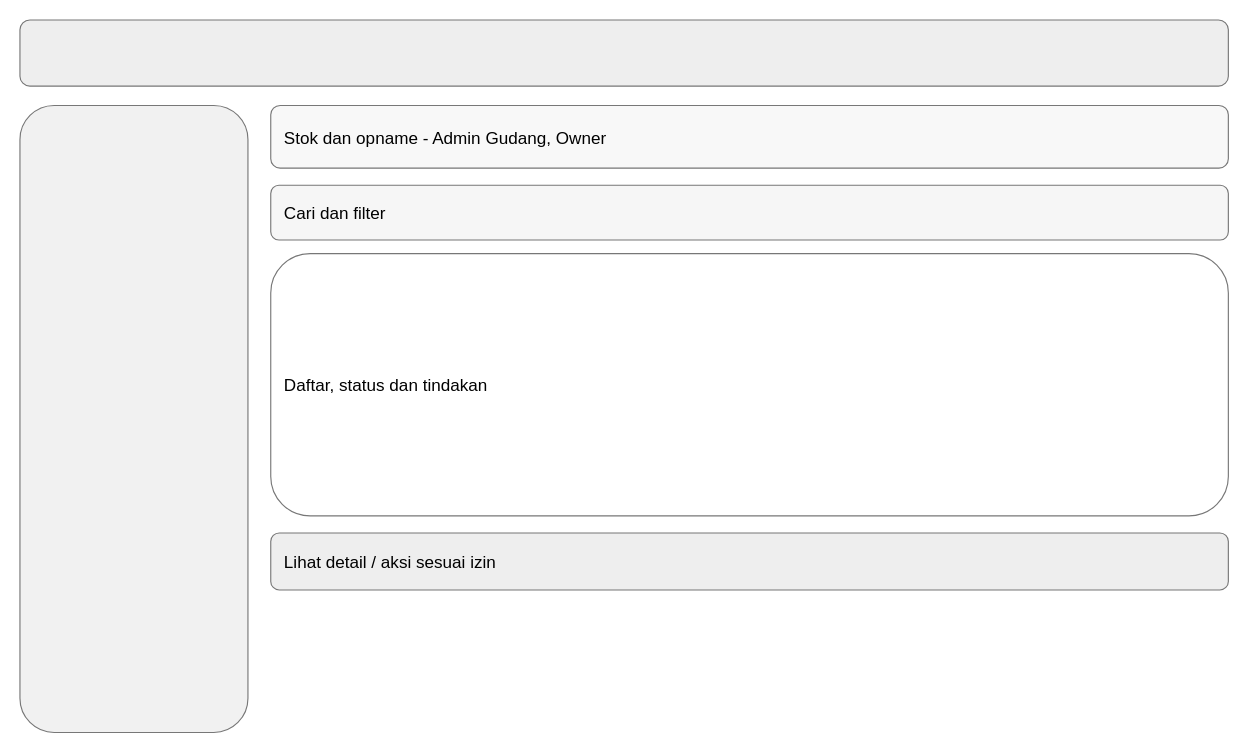
The diagram is 1248 pixels wide and 752 high, and some of its shapes have lost their labels. The shapes that lost their labels are listed below. From the top down, each one's centre as x and y in pixels, then its label:
At (x=623, y=52): "MOTIFNESIA | Stok dan opname".
At (x=133, y=418): "Menu per hak akses".
